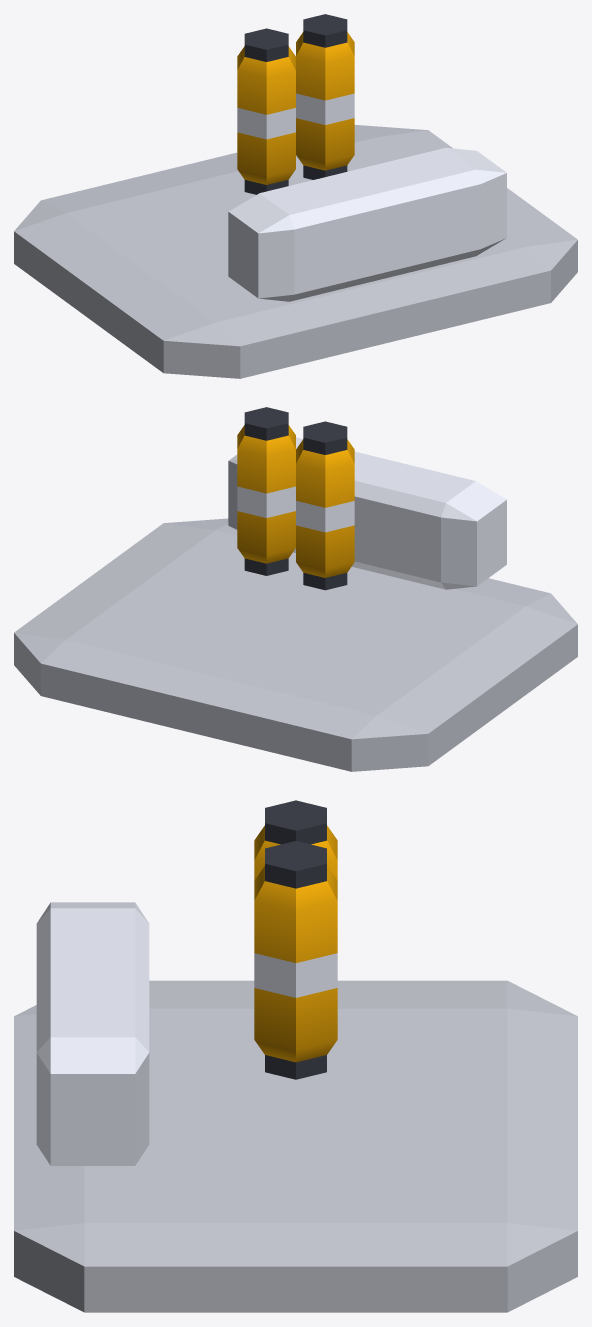
3 renders of one model, top to bottom at view 1: azimuth 30°, elevation 25°; view 2: azimuth 150°, elevation 25°; view 3: azimuth 270°, elevation 25°, orthographic. The views are drawn at different scales.
Parts seen in each view (by area): view 1: block_bevel (×2), tank_doubleDetailed; view 2: block_bevel (×2), tank_doubleDetailed; view 3: block_bevel (×2), tank_doubleDetailed.
Boxes of the visible parts, x1=… form: block_bevel (×2): x1=14, y1=125, x2=577, y2=378; tank_doubleDetailed: x1=237, y1=14, x2=354, y2=194; block_bevel (×2): x1=14, y1=437, x2=577, y2=771; tank_doubleDetailed: x1=237, y1=407, x2=354, y2=590; block_bevel (×2): x1=14, y1=902, x2=577, y2=1312; tank_doubleDetailed: x1=254, y1=800, x2=337, y2=1079.
Size of the model in its own units: 3 by 1.67 by 2.5.
